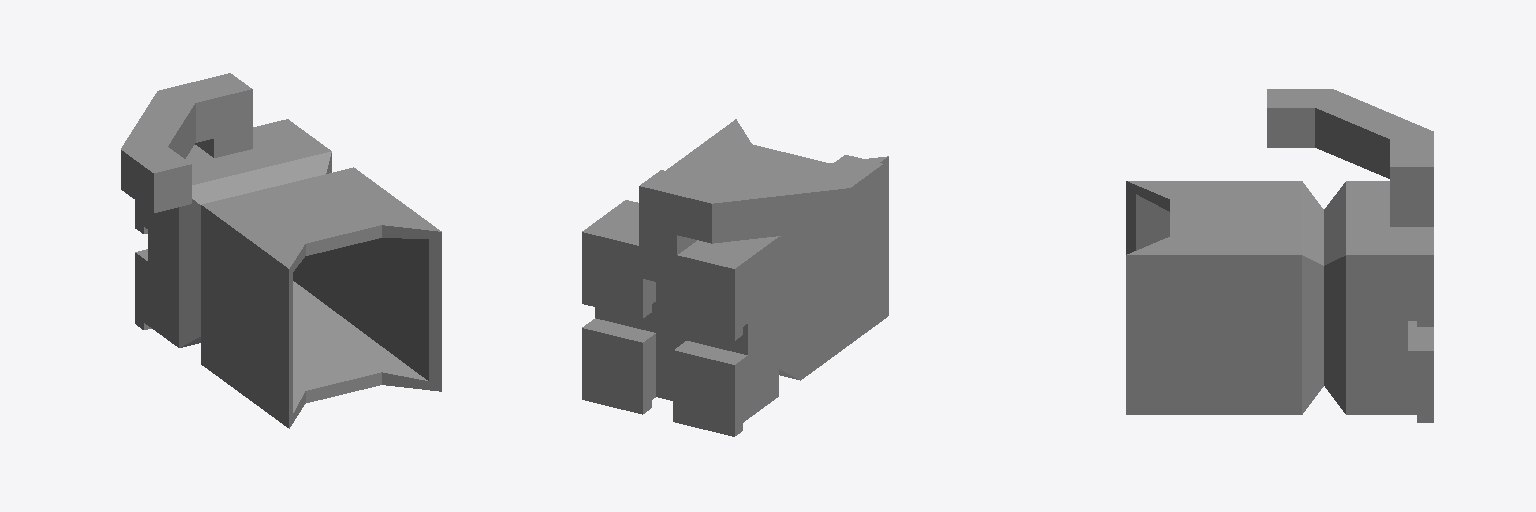
The model's file is small.obj.
3 views of the same model, side by side, from view 1: azimuth 30°, elevation 25°; view 2: azimuth 150°, elevation 25°; view 3: azimuth 270°, elevation 25° (orthographic).
Parts seen in each view (by area): view 1: <STL_BINARY>; view 2: <STL_BINARY>; view 3: <STL_BINARY>.
Boxes of the visible parts, x1=… form: <STL_BINARY>: x1=121, y1=73, x2=441, y2=428; <STL_BINARY>: x1=582, y1=119, x2=888, y2=436; <STL_BINARY>: x1=1126, y1=89, x2=1433, y2=422.
Bounding box in the file's own units: 28.54 × 28.5 × 35.